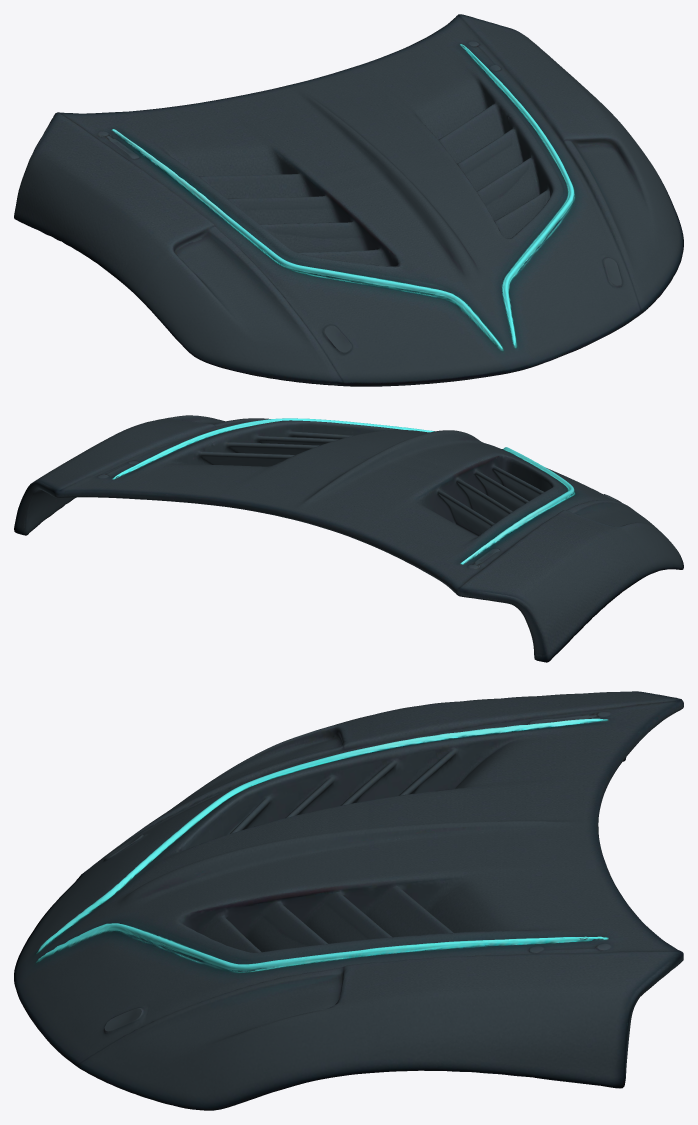
The model's file is tripo_convert_f523d738-35f5-47c1-98bd-4a05fcc4c49e.fbx.
3 views of the same model, one above another, from view 1: azimuth 30°, elevation 25°; view 2: azimuth 150°, elevation 25°; view 3: azimuth 270°, elevation 25° (orthographic). The views are drawn at different scales.
Parts seen in each view (by area): view 1: tripo_node_f523d738; view 2: tripo_node_f523d738; view 3: tripo_node_f523d738.
Part boxes in pixels (box(x1,y1,x2,y2)): tripo_node_f523d738: box(14, 14, 683, 386); tripo_node_f523d738: box(14, 415, 683, 662); tripo_node_f523d738: box(14, 691, 683, 1110).
Size of the model in its own units: 0.9802 by 0.2132 by 0.8256.
1 material, 1 textured.
